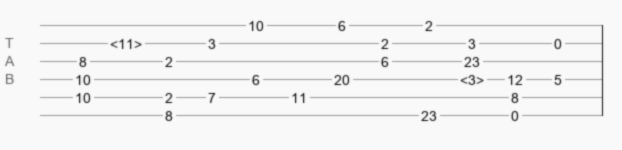0: (511, 108, 519, 118), (554, 36, 562, 46)
10: (75, 90, 91, 100), (75, 72, 91, 82), (248, 18, 264, 28)
11: (291, 90, 307, 100)
12: (507, 72, 523, 82)
2: (165, 90, 173, 100), (165, 54, 173, 64), (381, 36, 389, 46), (425, 18, 433, 28)
20: (334, 72, 350, 82)
23: (421, 108, 437, 118), (464, 54, 480, 64)
3: (208, 36, 216, 46), (468, 36, 476, 46)
5: (554, 72, 562, 82)
6: (252, 72, 260, 82), (338, 18, 346, 28), (381, 54, 389, 64)
7: (208, 90, 216, 100)
8: (79, 54, 87, 64), (165, 108, 173, 118), (511, 90, 519, 100)
harmonic: (110, 36, 142, 46), (460, 72, 484, 82)
